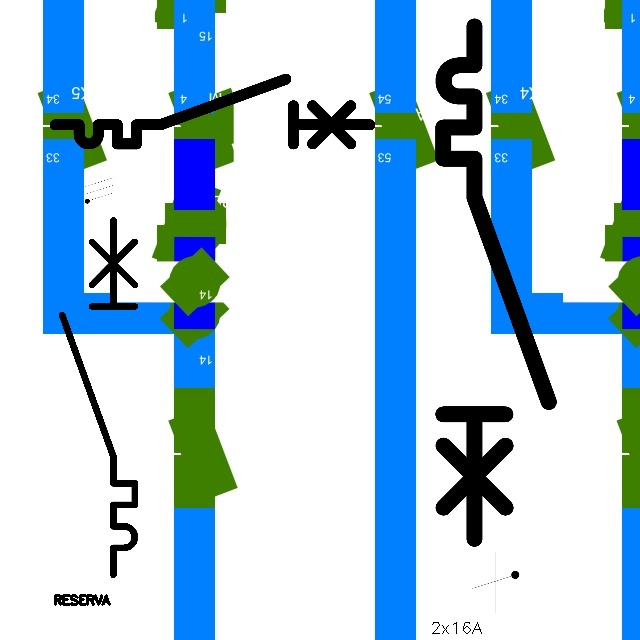interruptor_termomagnetico: (430, 13, 562, 551), (53, 211, 144, 584), (47, 71, 378, 152)
